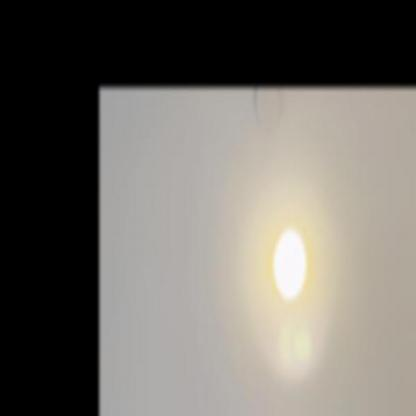light_on: (265, 212, 315, 308)
